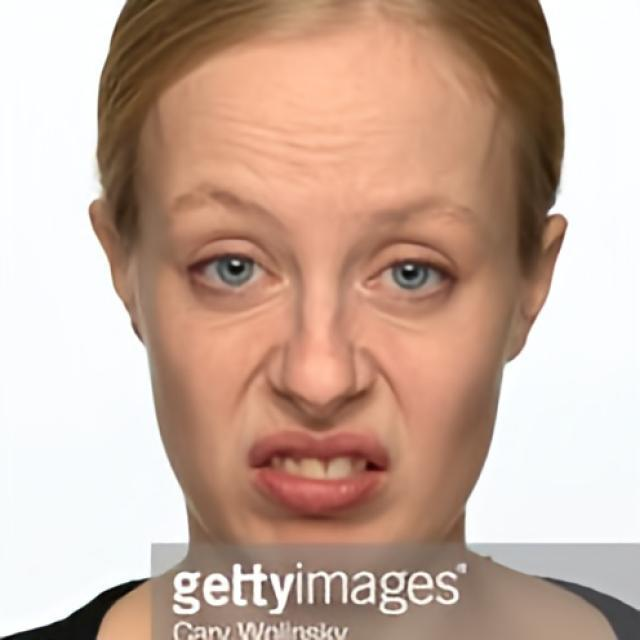disgust: (140, 20, 514, 541)
